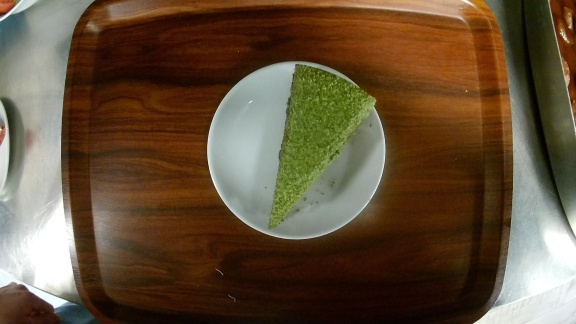fistiklipasta: (206, 59, 387, 239)
